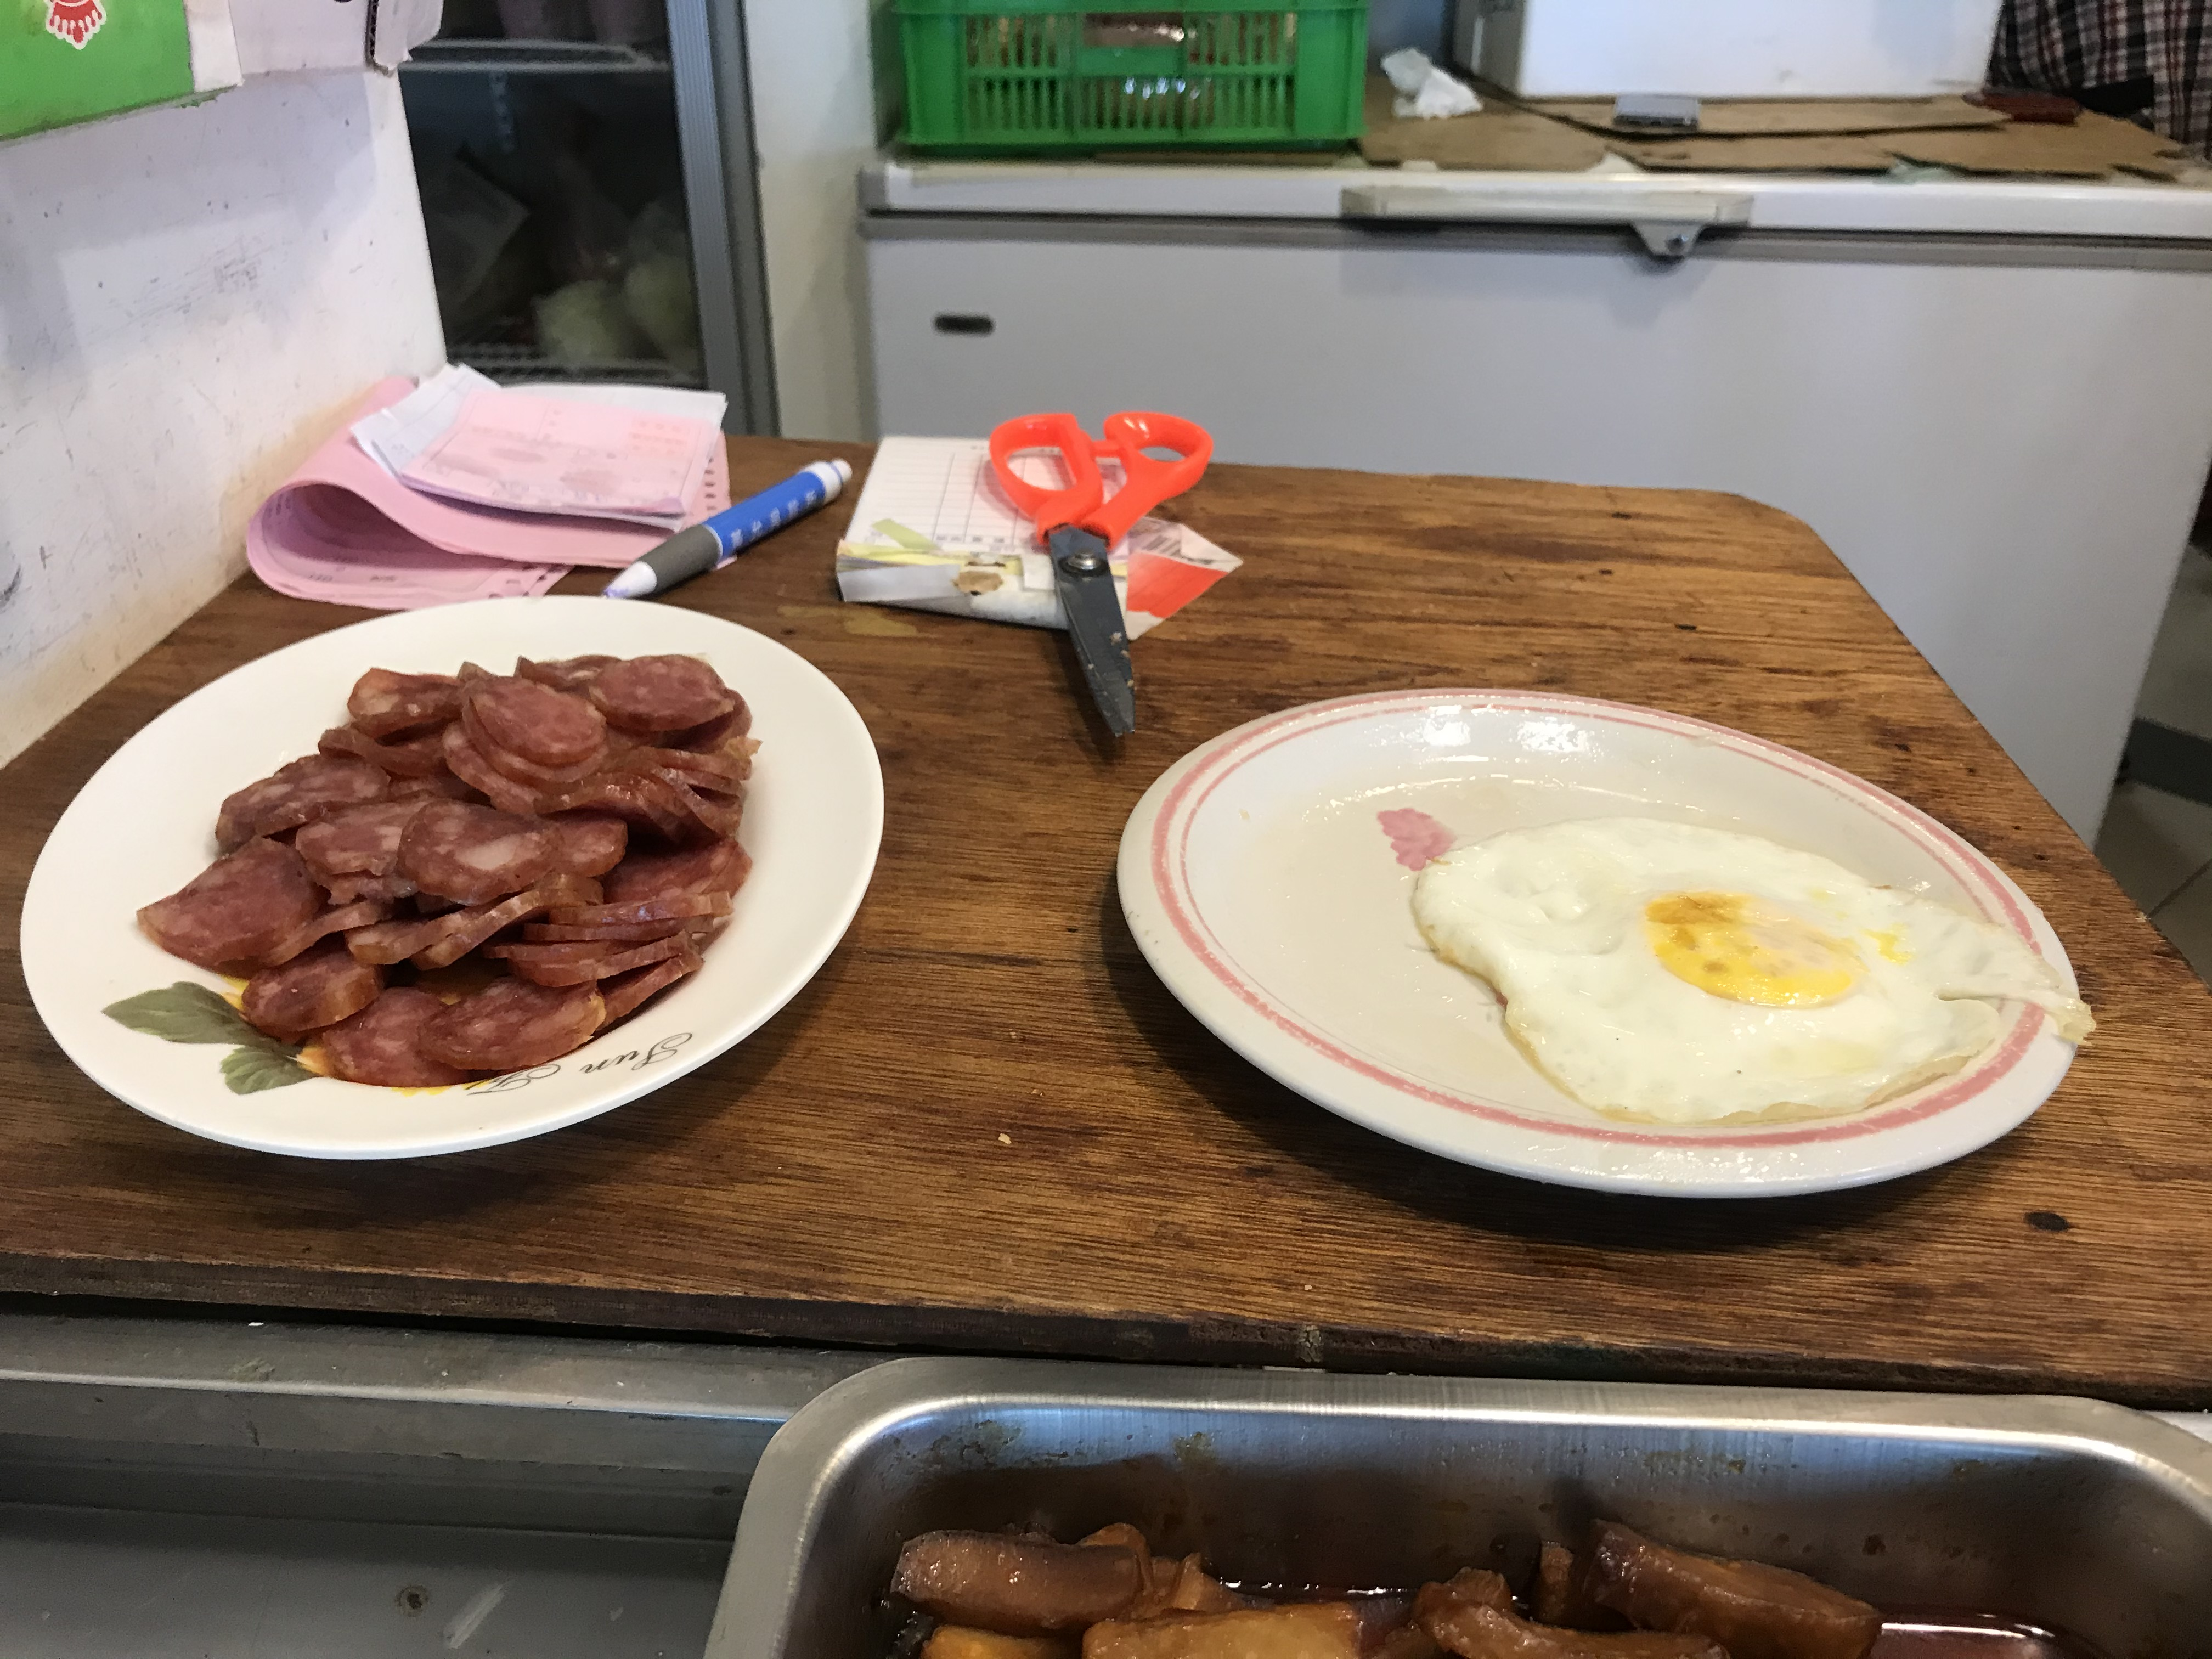chinese_sausage: (216, 657, 745, 1084)
fried_eggs: (1446, 812, 2015, 1127)
